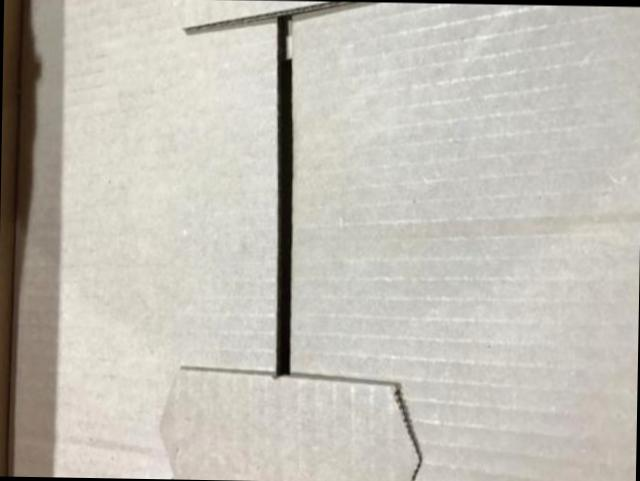cardboard paper: (290, 1, 640, 481), (8, 0, 341, 478)
